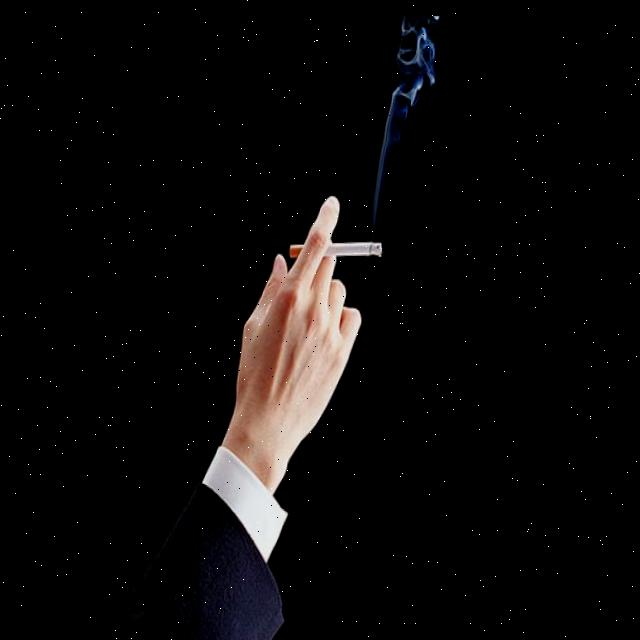cigarette: (293, 237, 388, 256)
